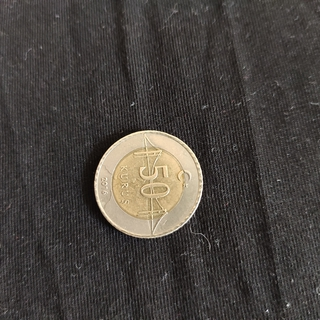50KURUS: (91, 127, 204, 240)
